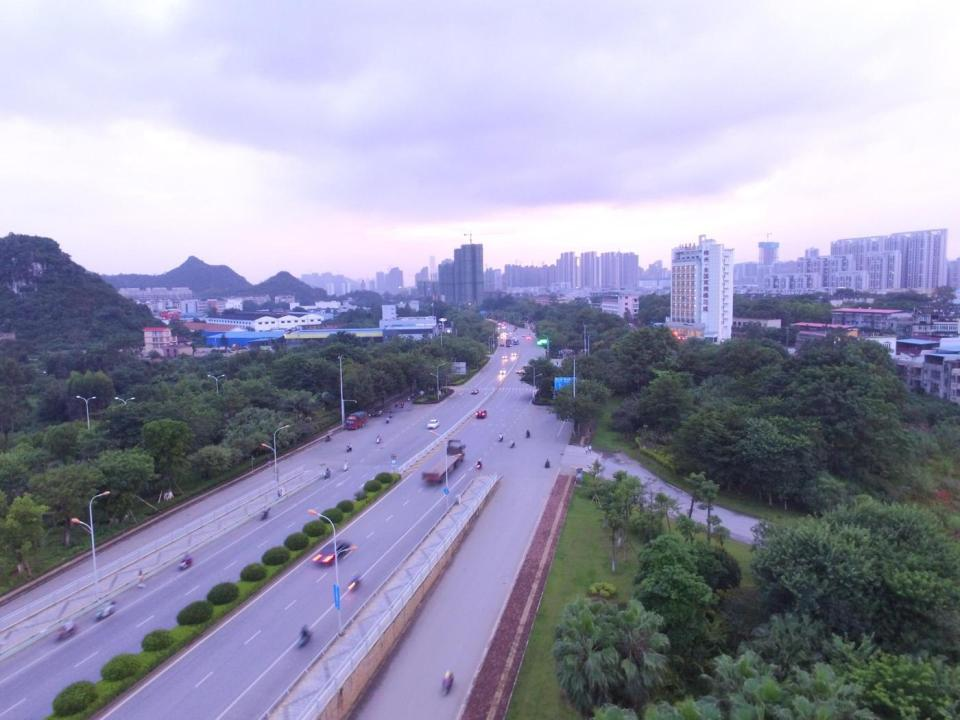car: (314, 540, 350, 566), (425, 420, 440, 429), (475, 409, 487, 419), (472, 388, 479, 395), (499, 368, 506, 374), (515, 369, 522, 374), (511, 352, 517, 356), (502, 354, 507, 358), (500, 344, 504, 347), (526, 338, 531, 340), (522, 334, 524, 338)
truck: (422, 439, 467, 485)
van: (345, 411, 367, 430), (506, 340, 512, 348)
